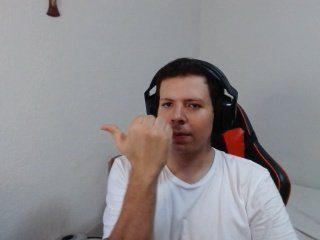Derecha: (95, 108, 181, 181)
